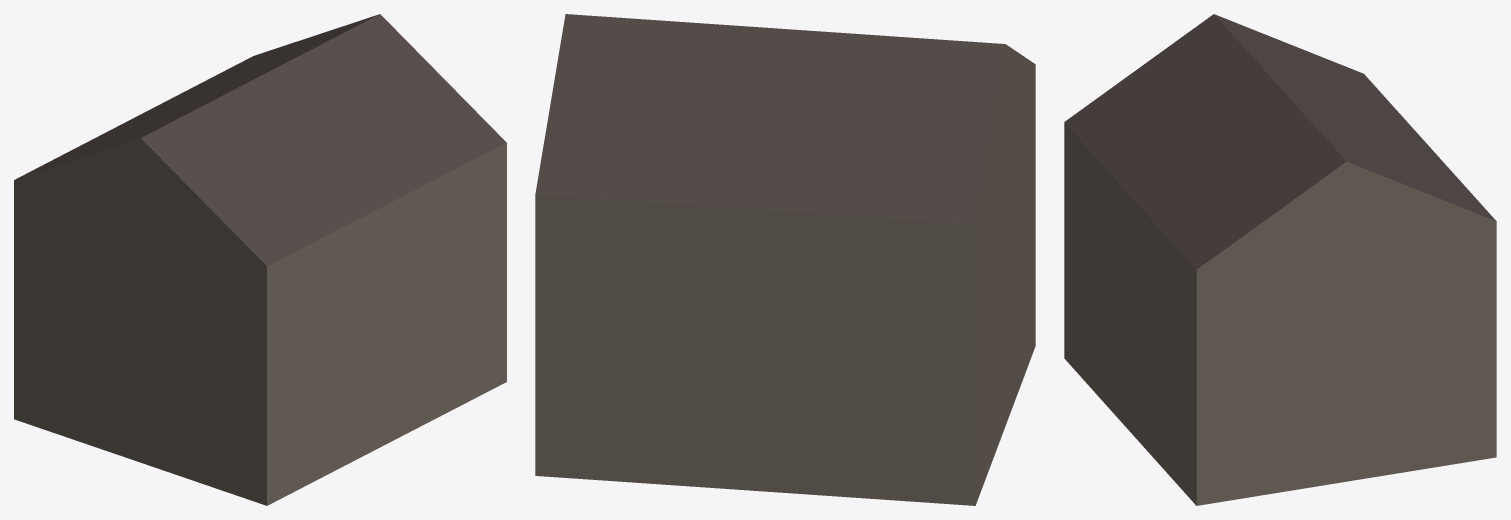
3 views of the same model, side by side, from view 1: azimuth 30°, elevation 25°; view 2: azimuth 150°, elevation 25°; view 3: azimuth 270°, elevation 25° (orthographic). The views are drawn at different scales.
Visible parts, largest first — view 1: HP-w859082508; view 2: HP-w859082508; view 3: HP-w859082508.
Part boxes in pixels (box(x1,y1,x2,y2)): HP-w859082508: box(14, 14, 506, 505); HP-w859082508: box(535, 14, 1035, 505); HP-w859082508: box(1064, 14, 1496, 505).
Bounding box in the file's own units: 10.7 × 8.14 × 9.97.
